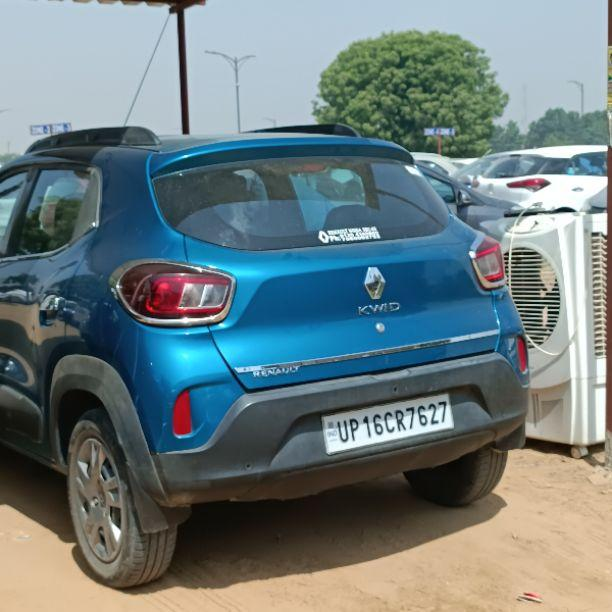license_plate: (319, 391, 455, 456)
